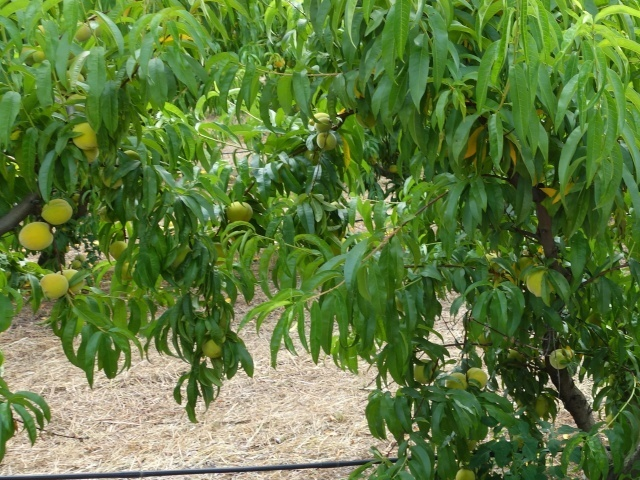peach: (15, 218, 57, 253), (38, 193, 77, 229), (37, 269, 74, 302), (524, 265, 559, 299), (69, 119, 102, 154), (96, 162, 128, 193), (224, 198, 257, 228), (409, 355, 440, 386), (75, 139, 106, 167), (444, 368, 473, 397), (546, 344, 574, 372), (53, 264, 82, 291), (463, 365, 490, 393), (353, 108, 381, 132), (199, 336, 225, 361), (314, 128, 339, 154), (113, 258, 139, 282), (71, 20, 95, 46), (310, 108, 333, 133), (530, 393, 553, 418), (27, 44, 49, 68), (107, 237, 130, 259), (452, 464, 480, 479), (503, 347, 523, 366)
